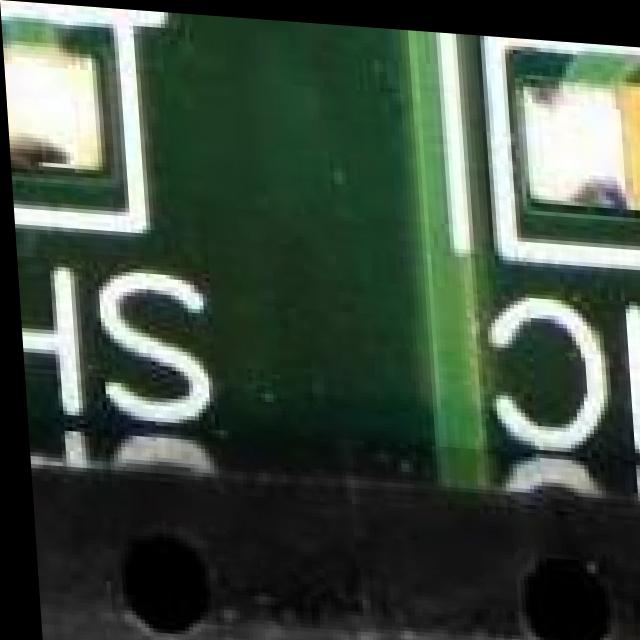LED: (0, 8, 102, 201), (521, 42, 640, 201)
connector: (22, 428, 640, 640)
